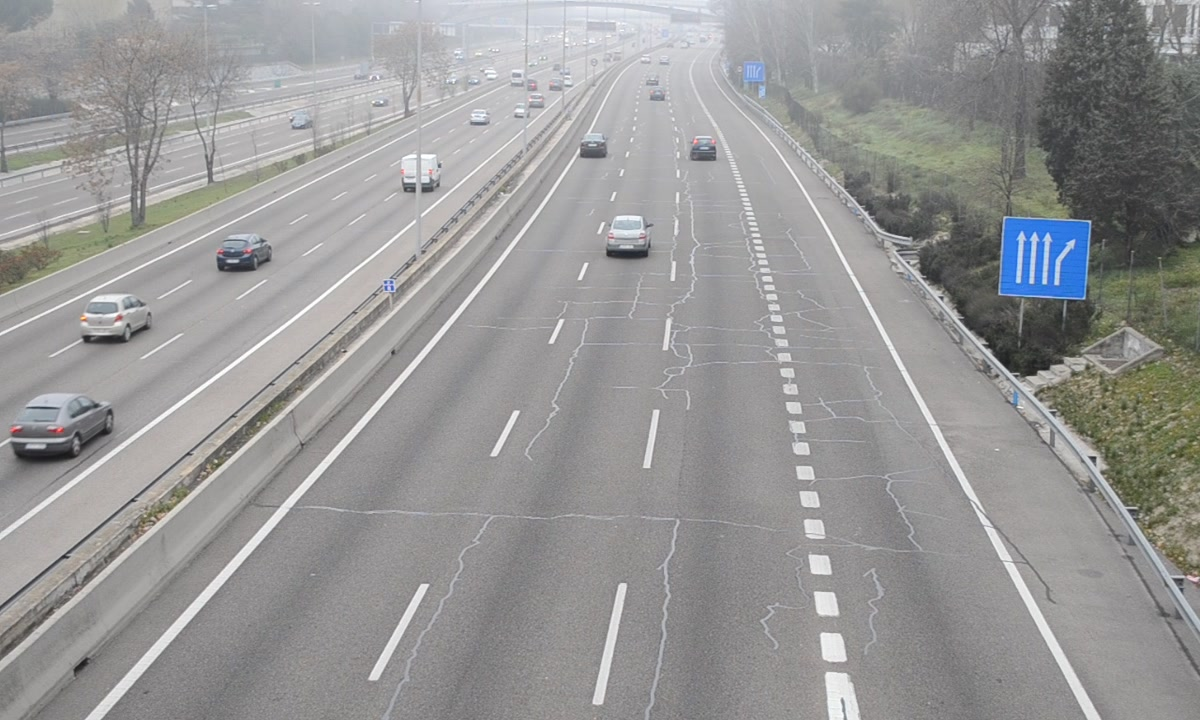car: (607, 215, 649, 256), (689, 135, 718, 162), (579, 134, 607, 159)
